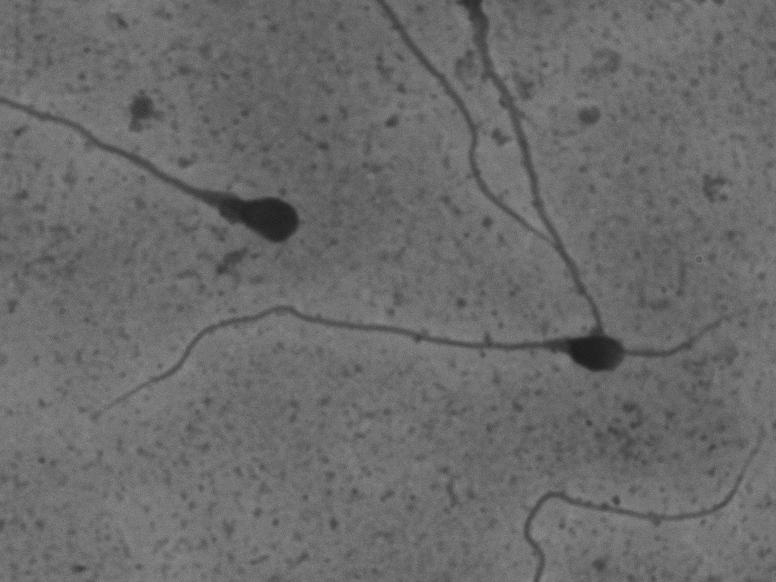Abnormal: (15, 69, 335, 270)
Normal: (84, 296, 629, 442)
